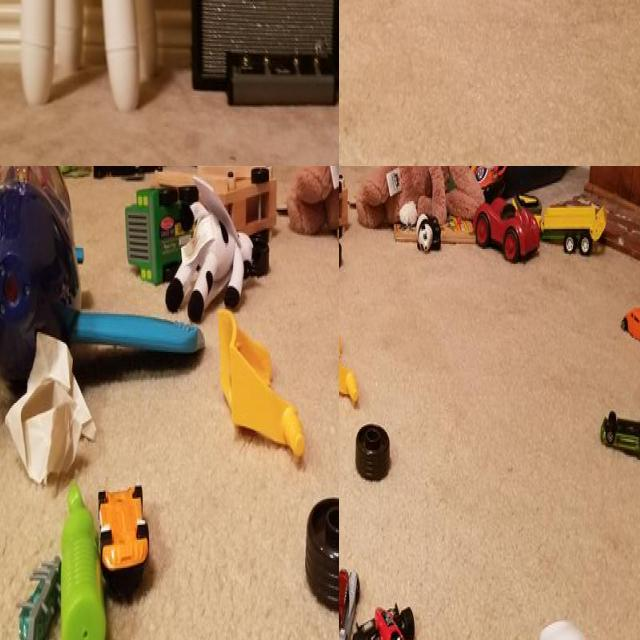toy: (0, 166, 77, 380), (216, 306, 307, 462), (166, 198, 262, 308), (124, 167, 203, 291), (178, 166, 283, 249), (57, 481, 107, 640), (75, 303, 202, 357), (473, 187, 539, 269), (98, 478, 150, 582), (301, 495, 339, 615), (543, 191, 607, 262), (17, 547, 62, 640), (353, 602, 434, 640), (597, 408, 640, 472), (497, 615, 606, 640), (354, 422, 392, 482), (339, 310, 362, 409), (414, 212, 447, 262), (339, 555, 356, 640), (622, 303, 640, 361), (88, 166, 159, 176), (53, 166, 73, 177)
